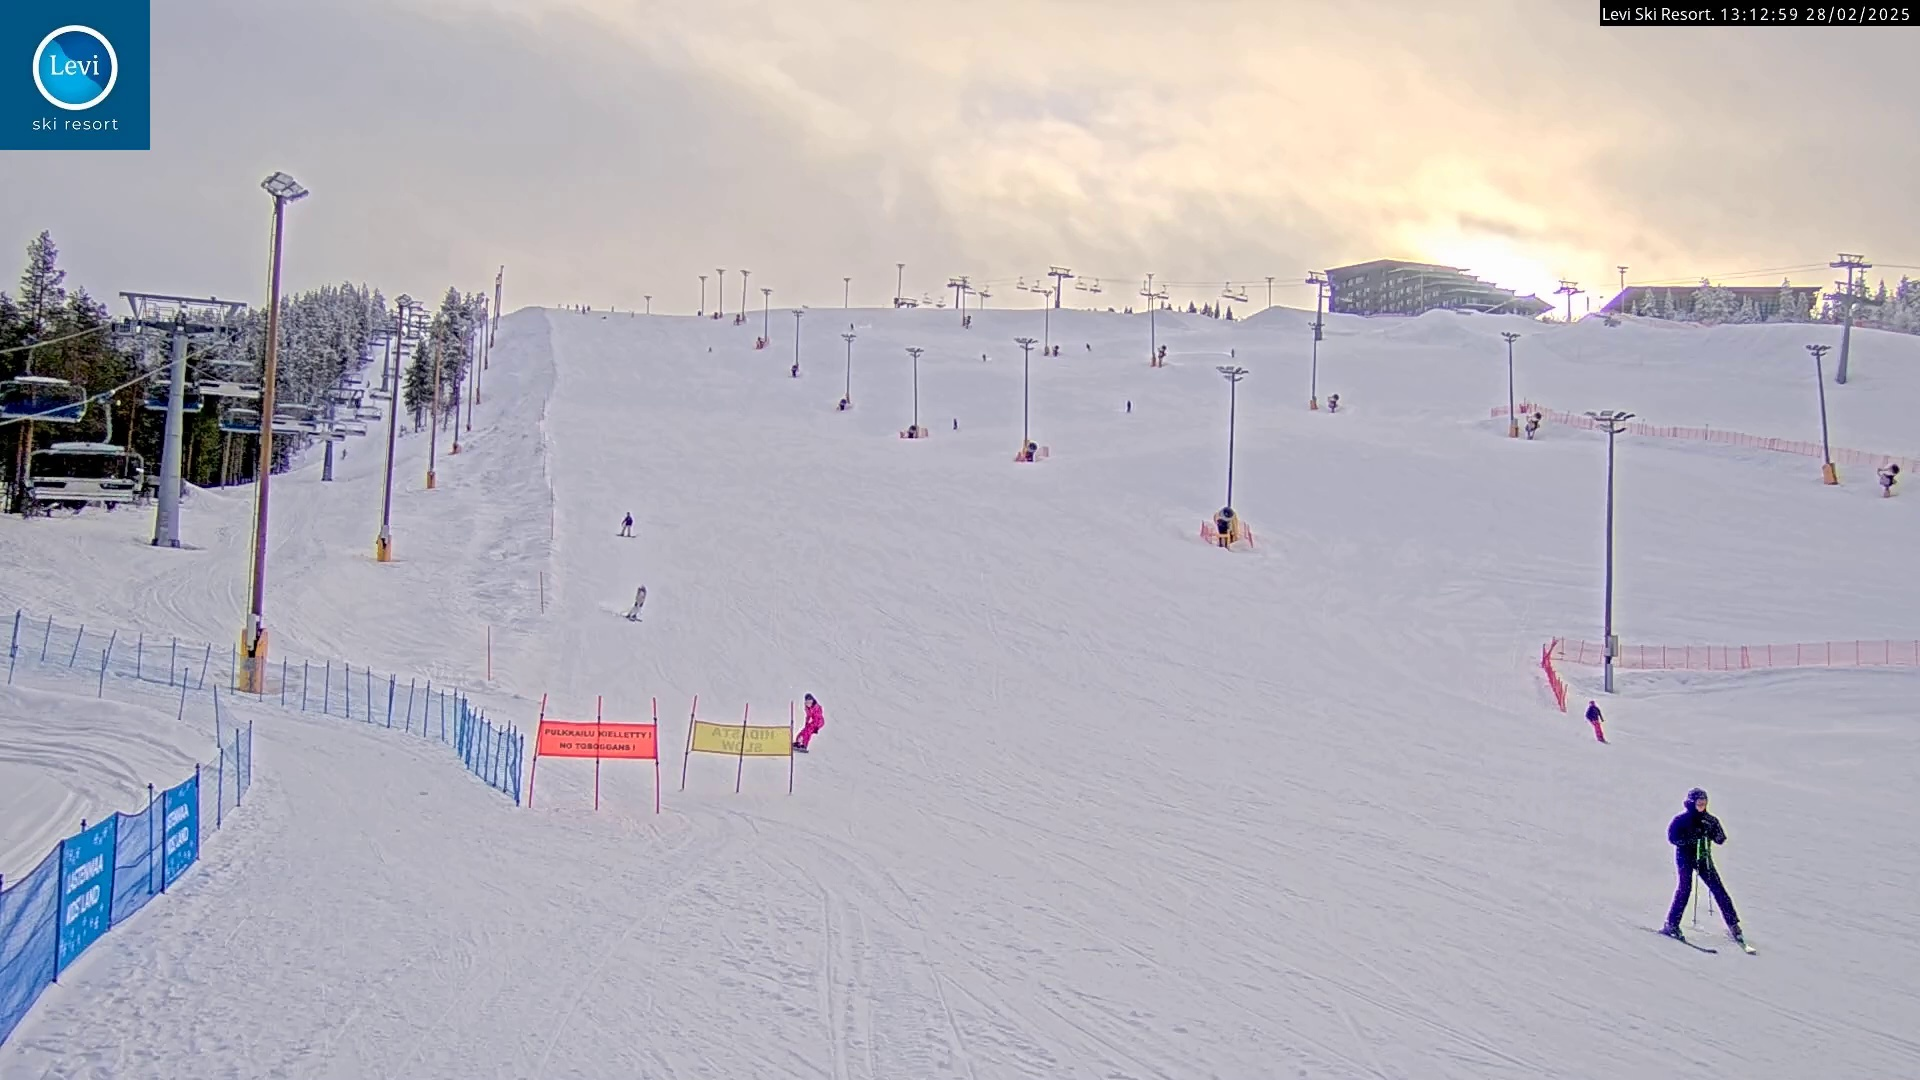skier: (1635, 785, 1756, 959)
snowboarder: (793, 691, 827, 750)
